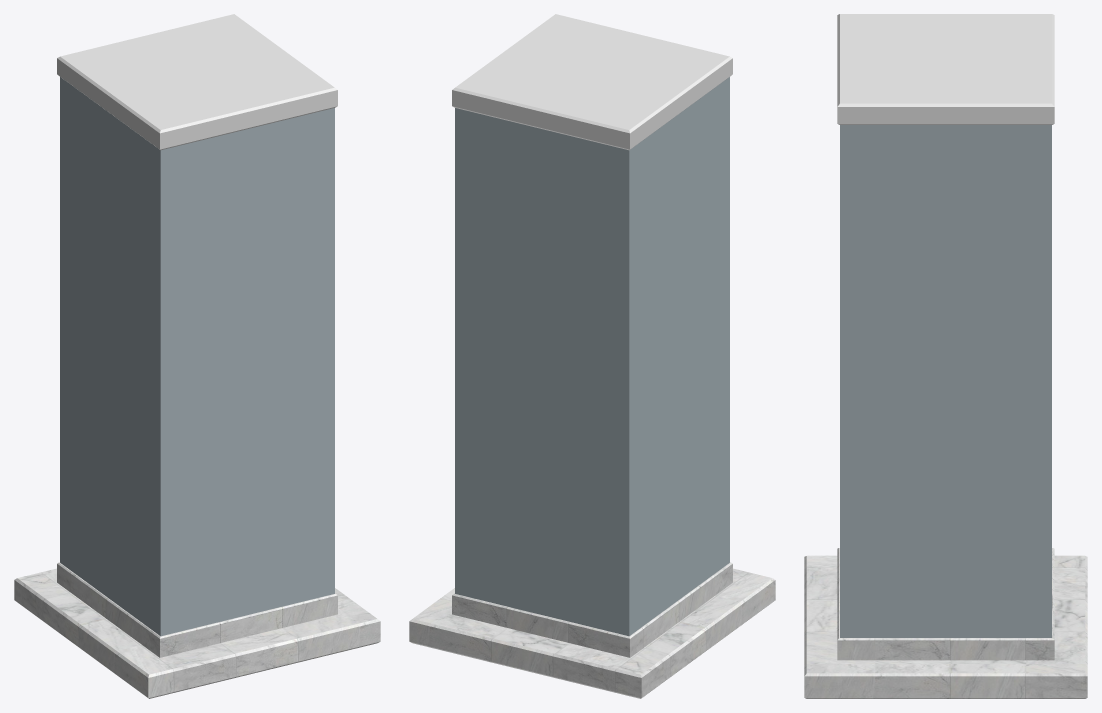
3 renders of one model, left to right at view 1: azimuth 30°, elevation 25°; view 2: azimuth 150°, elevation 25°; view 3: azimuth 270°, elevation 25°, orthographic. The views are drawn at different scales.
Visible parts, largest first — view 1: Box607, Box610, Box064, Box066, Box069, Box608; view 2: Box608, Box610, Box064, Box066, Box069, Box609; view 3: Box609, Box064, Box066, Box069, Box607.
Part boxes in pixels (x1,y1,x2,y2): Box607: (164,108,334,635); Box610: (62,78,164,636); Box064: (57,14,337,150); Box066: (14,568,380,698); Box069: (57,562,337,657); Box608: (60,77,62,563); Box608: (459,109,631,636); Box610: (631,77,729,634); Box064: (452,14,732,150); Box066: (409,568,775,698); Box069: (452,562,732,657); Box609: (455,108,458,594); Box609: (844,125,1051,637); Box064: (837,14,1054,124); Box066: (804,555,1087,698); Box069: (837,548,1054,660); Box607: (840,125,844,637).
Size of the model in its own units: 600 by 1359 by 600.
4 materials, 1 textured.
